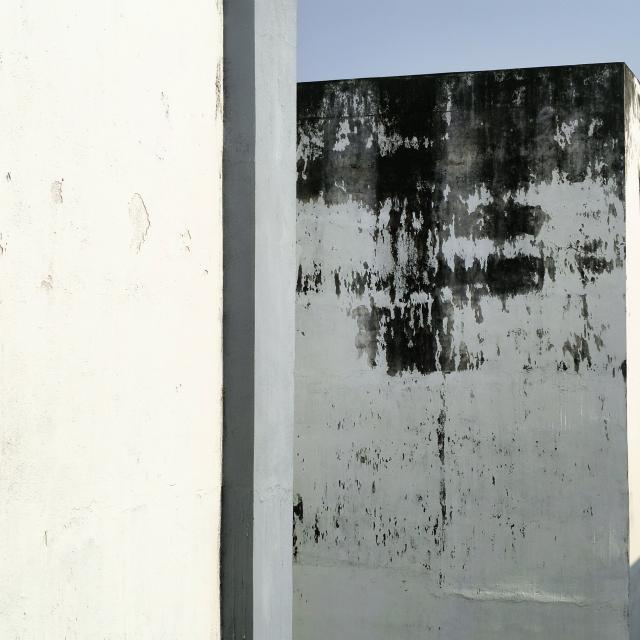Moss growth due to damping: (240, 57, 635, 638)
